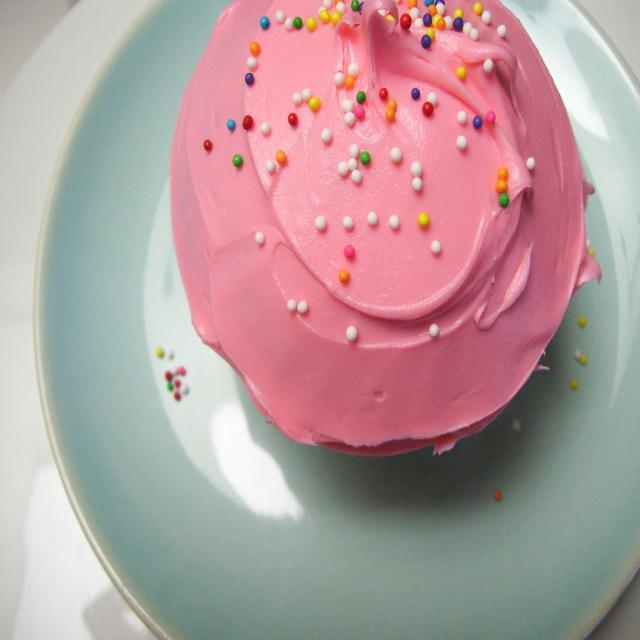ceramic plate: (35, 5, 640, 640)
